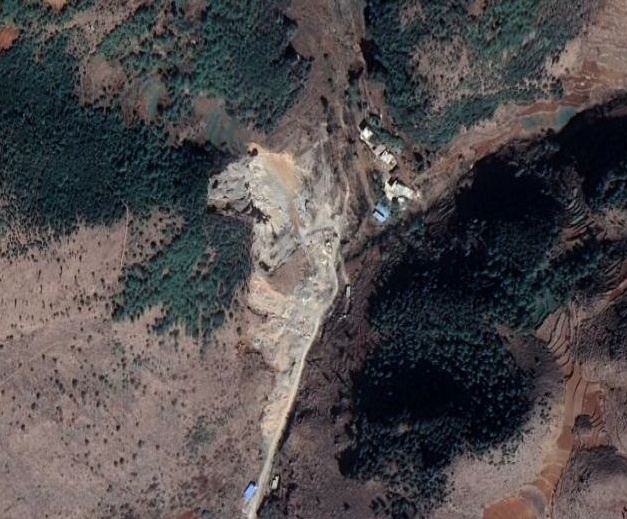slope: (200, 136, 340, 441)
